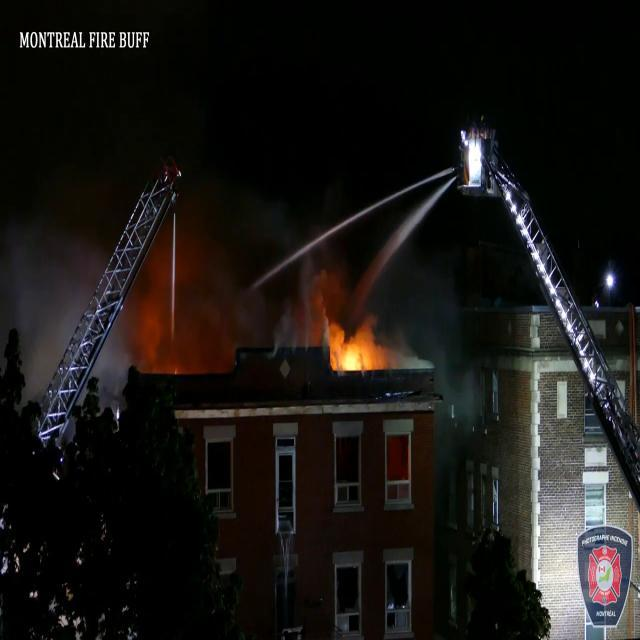Fire: (320, 316, 394, 376)
Smoke: (3, 121, 266, 376)
